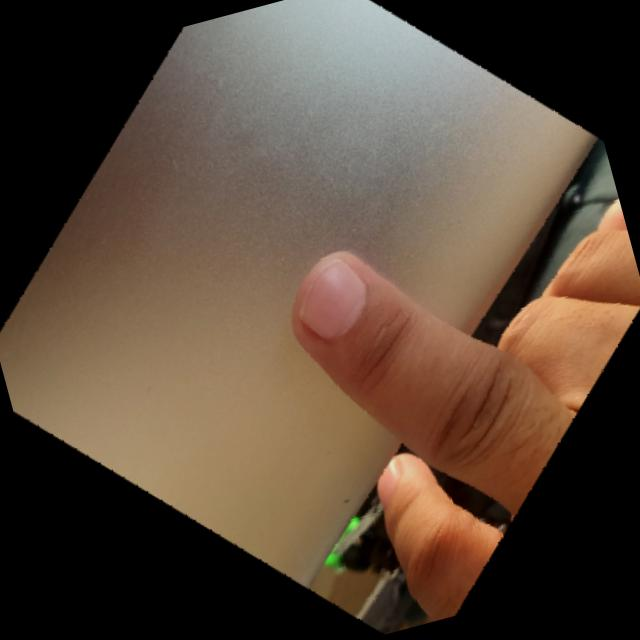Nail: (300, 258, 365, 338)
